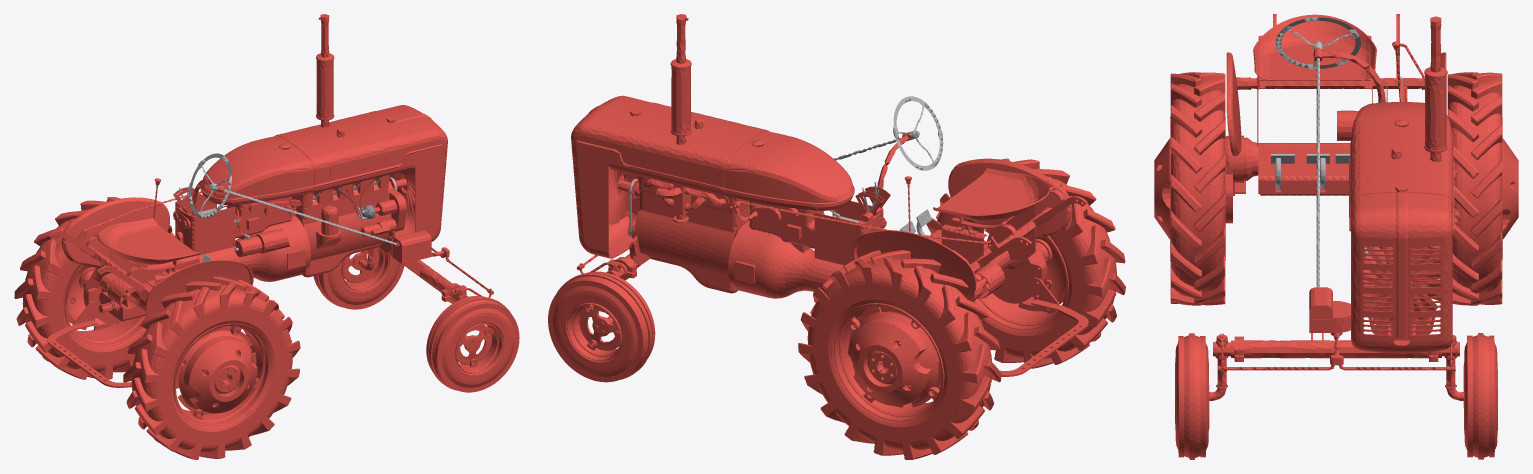
Rendered from farmall-super-a.glb.
The picture shows the model from 3 angles, left to right: view 1: azimuth 30°, elevation 25°; view 2: azimuth 150°, elevation 25°; view 3: azimuth 270°, elevation 25°; orthographic projection. The views are drawn at different scales.
Visible parts, largest first — view 1: part50_50, FRAME_8, part52_52, part13_13, COVER-OVERENGINE_85, part73_73, part54_54, part84_84, WEIGHT-WHEEL_58, SEAT_61, part51_51, part56_56 (+15 smaller); view 2: part52_52, FRAME_8, part50_50, part13_13, COVER-OVERENGINE_85, part73_73, part56_56, part84_84, WEIGHT-WHEEL_59, SEAT_61, part53_53, HUB-WHEEL_49 (+13 smaller); view 3: part84_84, part50_50, part52_52, FRAME_8, COVER-OVERENGINE_85, SEAT_61, part56_56, part54_54, part45_45, FAN_35, STEERING-WHEEL_71, part73_73 (+13 smaller).
Part boxes in pixels (box(x1,y1,x2,y2)): part50_50: box(123, 276, 300, 459); FRAME_8: box(61, 178, 308, 337); part52_52: box(14, 197, 175, 379); part13_13: box(291, 175, 406, 277); COVER-OVERENGINE_85: box(275, 111, 414, 193); part73_73: box(200, 135, 314, 205); part54_54: box(426, 296, 519, 392); part84_84: box(377, 105, 447, 241); WEIGHT-WHEEL_58: box(183, 336, 257, 413); SEAT_61: box(98, 218, 199, 264); part51_51: box(173, 323, 271, 428); part56_56: box(313, 254, 404, 309); part52_52: box(798, 250, 1001, 459); FRAME_8: box(729, 132, 1072, 359); part50_50: box(926, 158, 1125, 368); part13_13: box(631, 176, 749, 293); COVER-OVERENGINE_85: box(609, 102, 768, 196); part73_73: box(724, 131, 854, 210); part56_56: box(548, 271, 655, 382); part84_84: box(571, 95, 651, 258); WEIGHT-WHEEL_59: box(848, 317, 932, 405); SEAT_61: box(933, 168, 1049, 221); part53_53: box(831, 303, 944, 423); HUB-WHEEL_49: box(849, 307, 941, 407); part84_84: box(1349, 191, 1454, 353); part50_50: box(1170, 72, 1225, 305); part52_52: box(1447, 72, 1502, 305); FRAME_8: box(1225, 41, 1455, 223); COVER-OVERENGINE_85: box(1349, 130, 1454, 217); SEAT_61: box(1253, 14, 1376, 80); part56_56: box(1464, 333, 1497, 459); part54_54: box(1175, 333, 1208, 459); part45_45: box(1231, 287, 1441, 358); FAN_35: box(1363, 246, 1440, 320); STEERING-WHEEL_71: box(1275, 17, 1360, 287); part73_73: box(1349, 102, 1453, 162).
Bounding box in the file's own units: 3.13 × 2.45 × 2.01.
